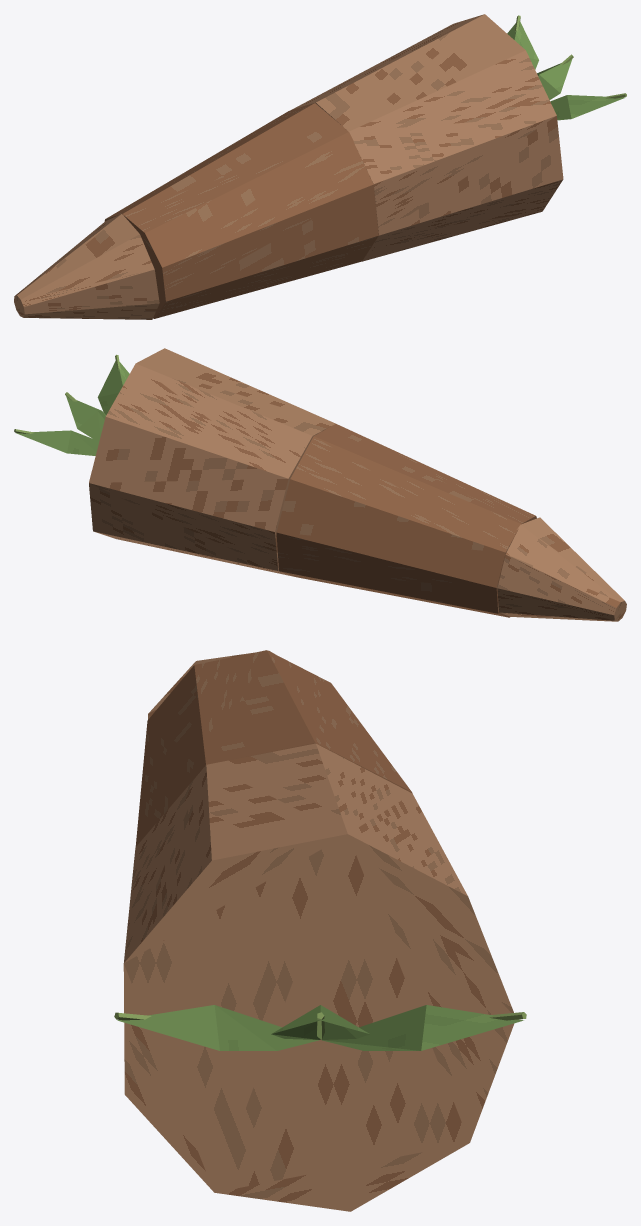
Rendered from dahlia_root.glb.
3 renders of one model, top to bottom at view 1: azimuth 30°, elevation 25°; view 2: azimuth 150°, elevation 25°; view 3: azimuth 270°, elevation 25°, orthographic. The views are drawn at different scales.
Parts seen in each view (by area): view 1: block_tapering root 2, block_tapering root 1, block_tapering root 0, block_trimmed leaf stalk tip (×2); view 2: block_tapering root 2, block_tapering root 1, block_tapering root 0, block_trimmed leaf stalk tip (×3), block_trimmed leaf stalk blade (×2); view 3: block_tapering root 2, block_tapering root 1, block_trimmed leaf stalk blade (×2), block_trimmed leaf stalk tip (×2).
Part boxes in pixels (x1,y1,x2,y2): block_tapering root 2: (291,14,563,261); block_tapering root 1: (104,103,378,318); block_tapering root 0: (14,214,159,319); block_trimmed leaf stalk tip (×2): (539,59,625,118); block_tapering root 2: (89,348,335,576); block_tapering root 1: (276,424,536,617); block_tapering root 0: (497,517,626,621); block_trimmed leaf stalk tip (×3): (16,361,122,453); block_trimmed leaf stalk blade (×2): (67,411,104,455); block_tapering root 2: (123,743,514,1211); block_tapering root 1: (135,650,412,846); block_trimmed leaf stalk blade (×2): (214,1005,426,1050); block_trimmed leaf stalk tip (×2): (117,1005,523,1050).
Bounding box in the file's own units: 0.1436 × 0.046 × 0.0472.
Materials: 2 (2 with a texture image).
